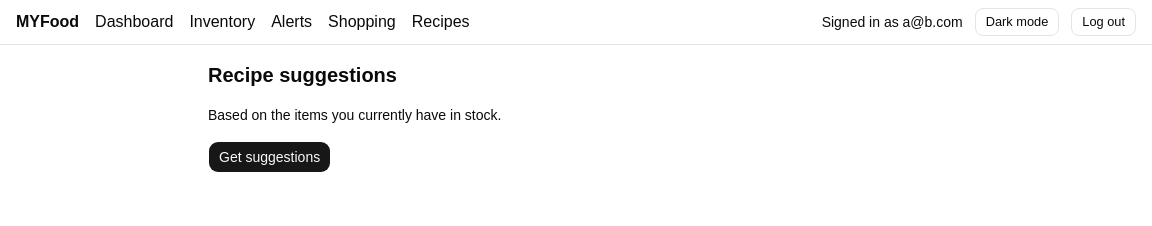
Test: recipes › shows distinct message for 429
Click the button "Get suggestions": coordinates (270, 157) [208,141,331,173]
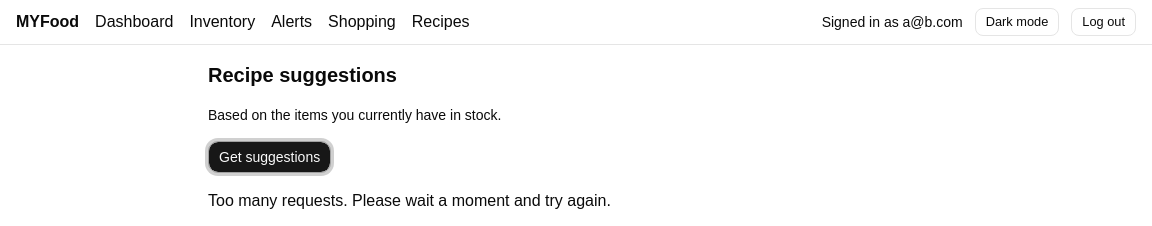
expect the message shows "Too many requests": met, box [208,192,611,209]
